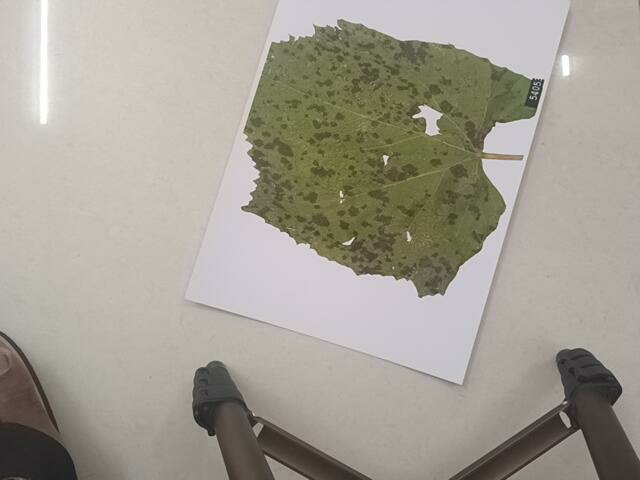Grape_Blight_Leaf: (238, 20, 556, 302)
